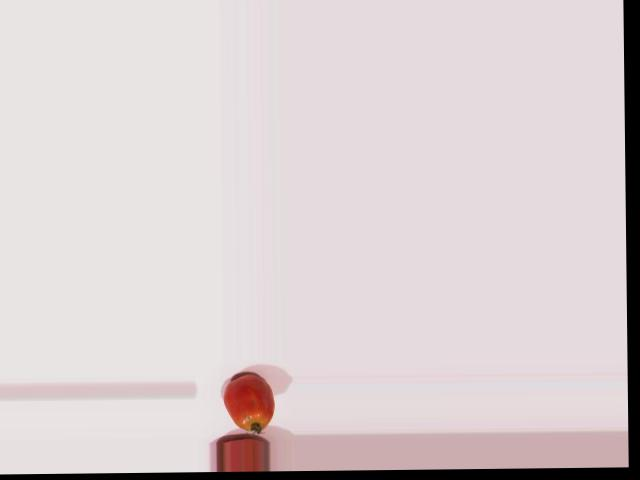tomato: (223, 375, 274, 431)
